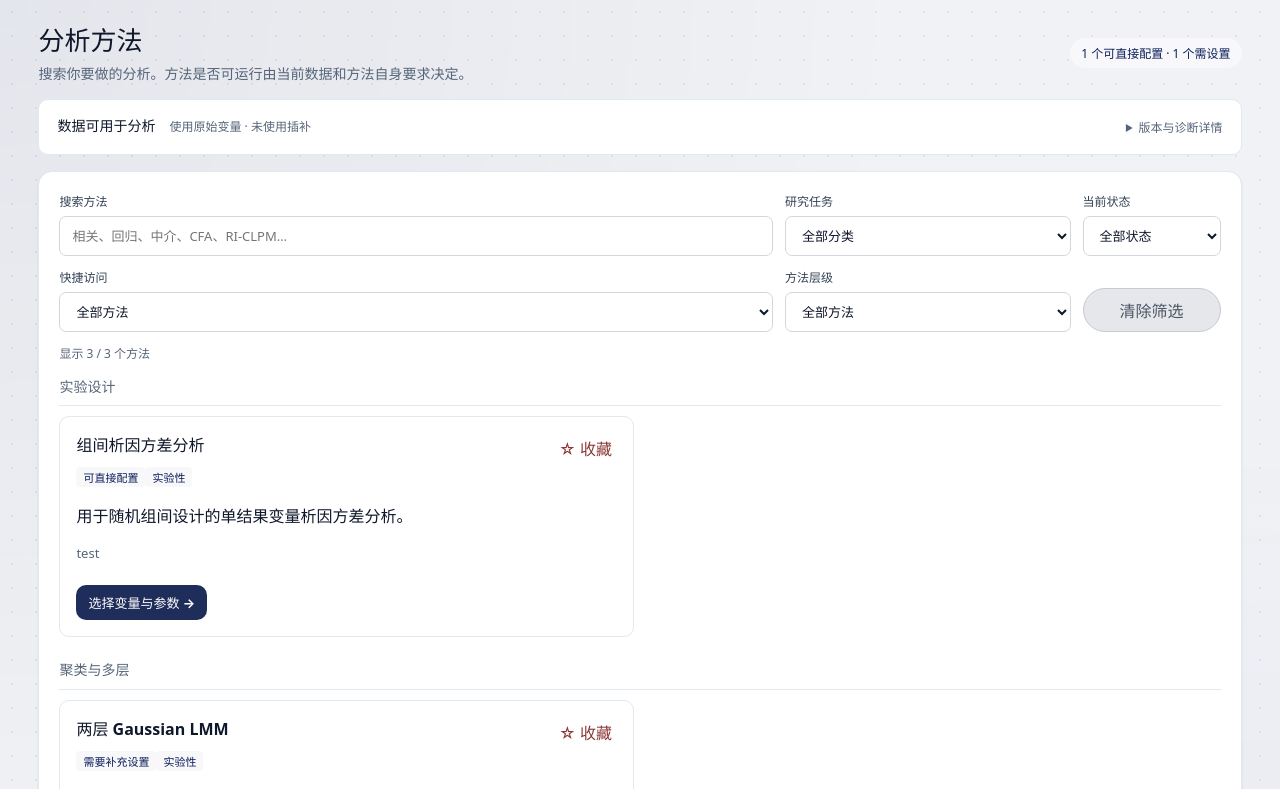
Scenario: ContextCapabilityCatalog › leaves a failed draft recoverable instead of silently doing nothing
Click the button with aria-label "配置组间析因方差分析". click: {"x": 142, "y": 602}
box: [76,585,207,620]
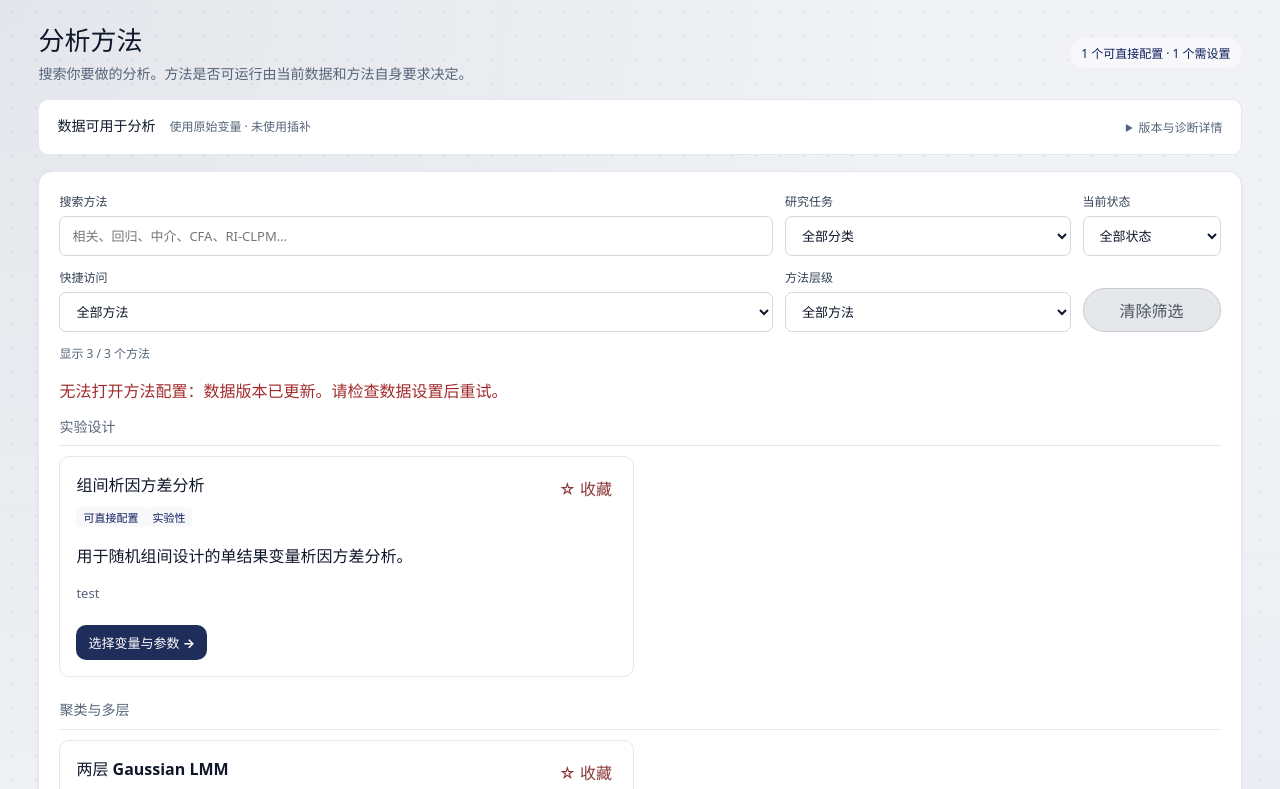
Expected: the button with aria-label "配置组间析因方差分析" is enabled, [76,625,207,660]
Now the message "无法打开方法配置：数据版本已更新。请检查数据设置后重试。" is shown, box [59,380,507,402]
